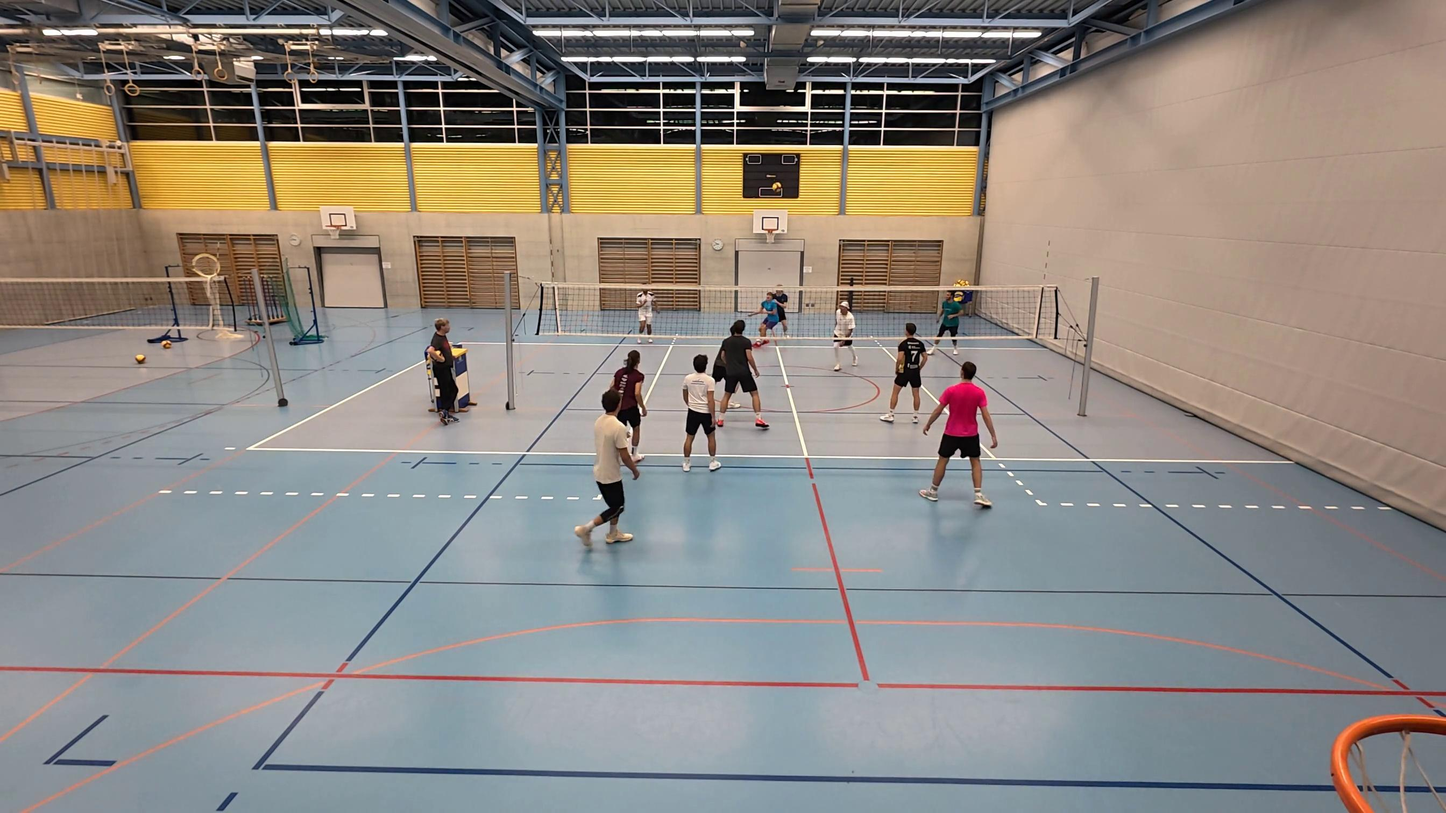Player: (920, 360, 998, 508), (574, 390, 640, 549), (712, 320, 769, 431), (604, 349, 648, 471), (679, 353, 720, 471), (882, 323, 929, 424), (928, 289, 969, 356), (830, 299, 856, 372), (753, 289, 785, 347), (769, 284, 792, 345), (635, 286, 655, 341)
ball: (953, 279, 968, 289), (772, 179, 782, 193)
